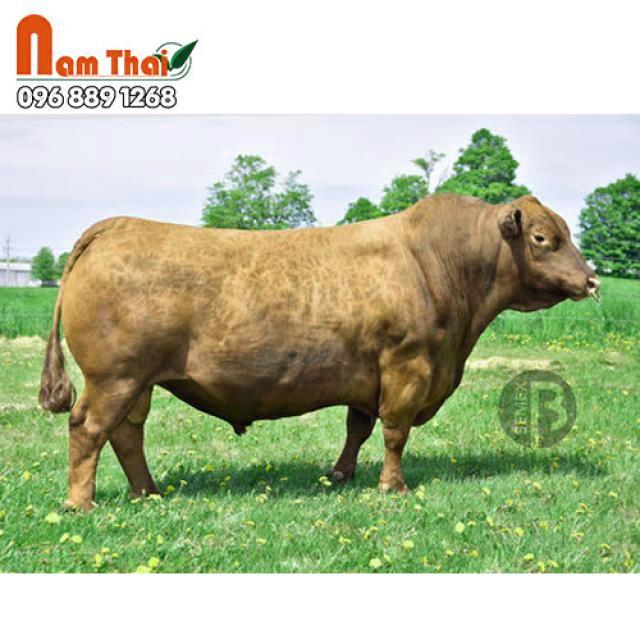cow: (40, 195, 598, 508)
